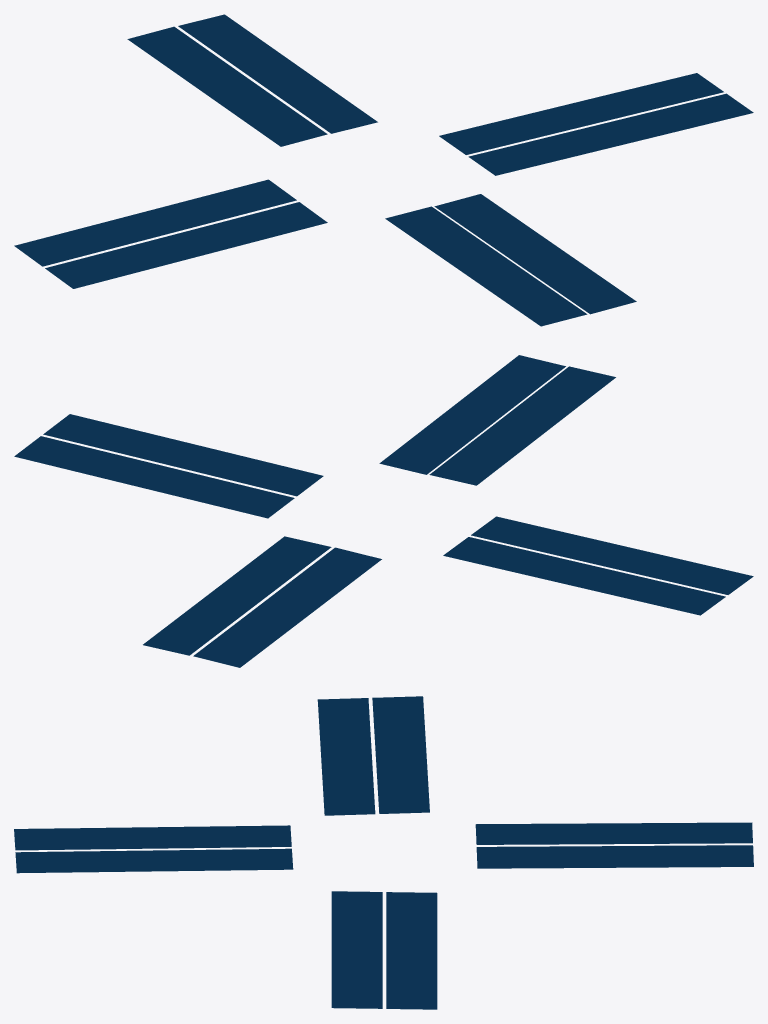
Rendered from panels.fbx.
3 views of the same model, one above another, from view 1: azimuth 30°, elevation 25°; view 2: azimuth 150°, elevation 25°; view 3: azimuth 270°, elevation 25° (orthographic). The views are drawn at different scales.
Parts seen in each view (by area): view 1: panels; view 2: panels; view 3: panels.
Part boxes in pixels (left/top/right/bottom): panels: left=14, top=14, right=753, bottom=326; panels: left=14, top=355, right=753, bottom=667; panels: left=14, top=696, right=753, bottom=1009.
Bounding box in the file's own units: 41.58 × 0.5205 × 41.63.
